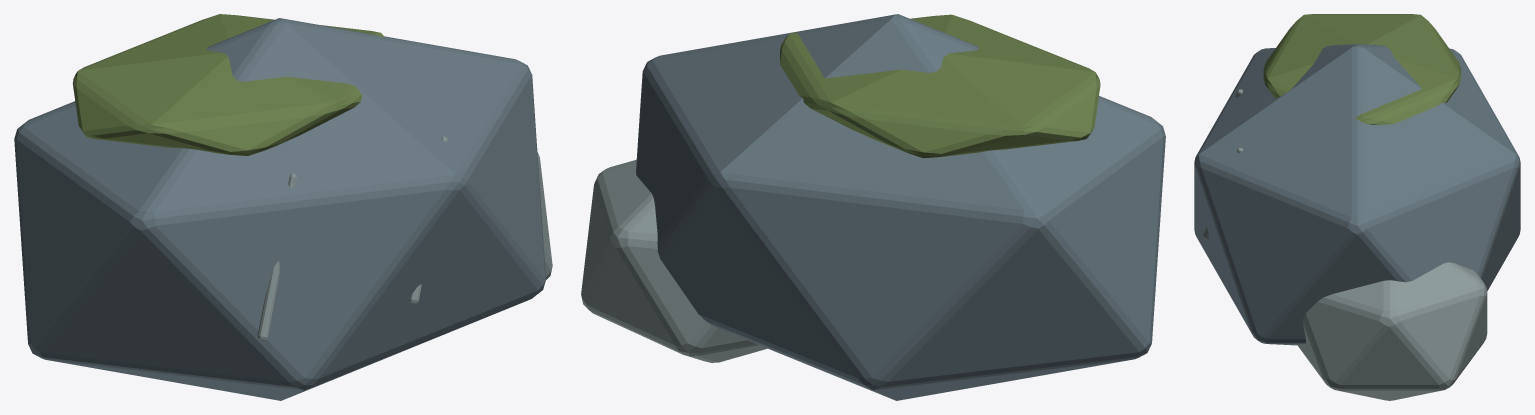
Rendered from moss_rock.glb.
3 views of the same model, side by side, from view 1: azimuth 30°, elevation 25°; view 2: azimuth 150°, elevation 25°; view 3: azimuth 270°, elevation 25° (orthographic). The views are drawn at different scales.
Parts seen in each view (by area): view 1: GraniteMass.001, MossCap.001, SplitBoulder.001; view 2: GraniteMass.001, MossCap.001, SplitBoulder.001; view 3: GraniteMass.001, SplitBoulder.001, MossCap.001.
Boxes of the visible parts, x1,y1,x2,y2 form: GraniteMass.001: [14, 18, 545, 400]; MossCap.001: [72, 14, 383, 155]; SplitBoulder.001: [257, 136, 552, 340]; GraniteMass.001: [636, 14, 1165, 400]; MossCap.001: [780, 14, 1100, 158]; SplitBoulder.001: [581, 159, 767, 362]; GraniteMass.001: [1194, 44, 1520, 345]; SplitBoulder.001: [1203, 89, 1487, 400]; MossCap.001: [1263, 14, 1460, 124].
Size of the model in its own units: 1.95 by 1.34 by 1.32.
